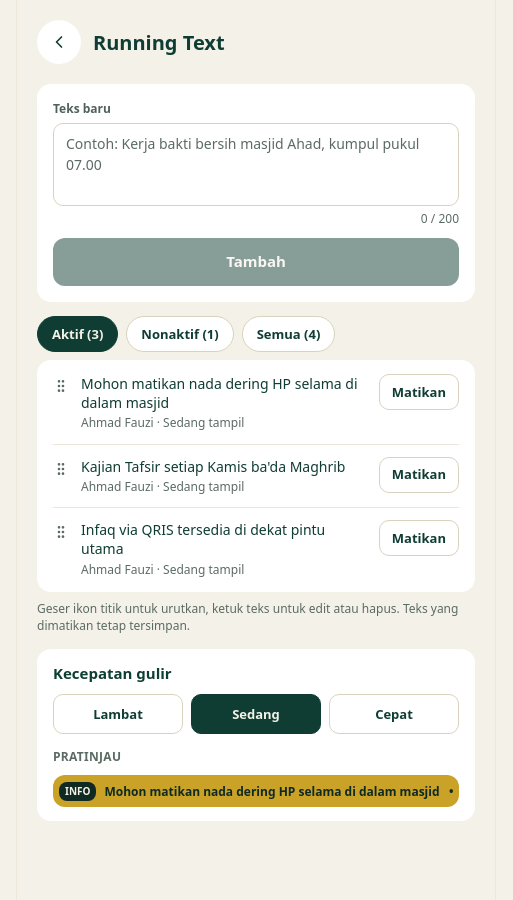
Test: RunningTextsPage › adds a text at the bottom
This screenshot has width=513, height=900.
Expected: the button "Tambah" is disabled, x1=53 y1=238 x2=459 y2=286
Type "  Kerja bakti Ahad pagi " into the text box labelled "Teks baru".
click(256, 165); type("  Kerja bakti Ahad pagi ")  # box x1=53 y1=123 x2=459 y2=206
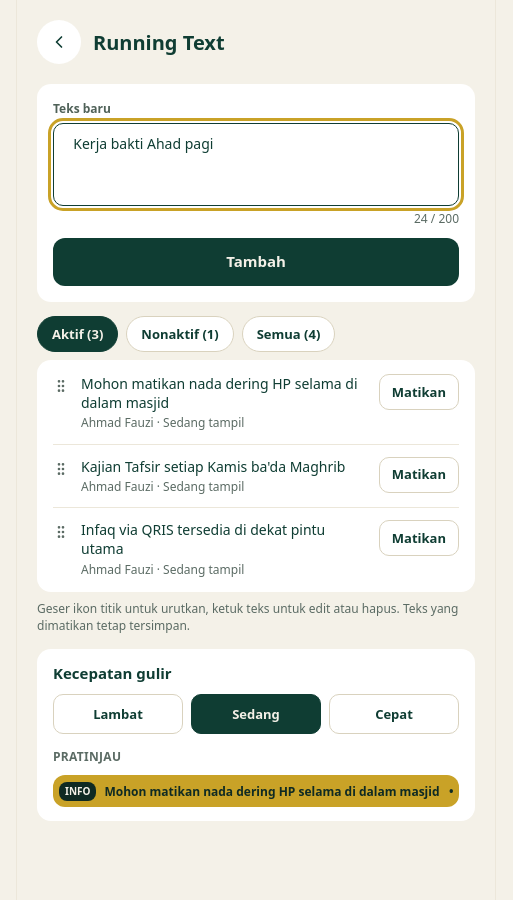
Result: the text "24 / 200" is shown at x1=414 y1=210 x2=459 y2=228
Click the button "Tambah".
click(256, 262)  # box x1=53 y1=238 x2=459 y2=286
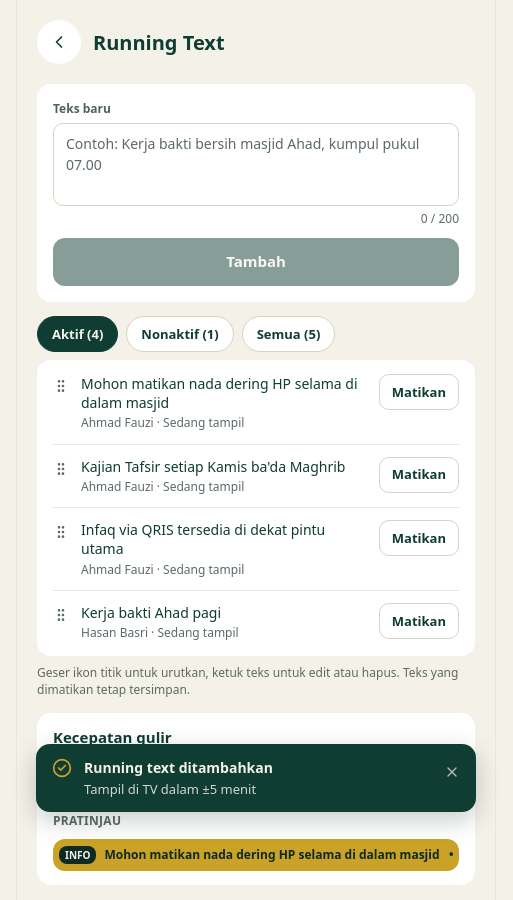
Result: the text "Running text ditambahkan" is shown at x1=84 y1=758 x2=273 y2=776
Result: the text "Tampil di TV dalam ±5 menit" is shown at x1=84 y1=780 x2=256 y2=798
Result: the text "Kerja bakti Ahad pagi" is shown at x1=81 y1=603 x2=221 y2=622
